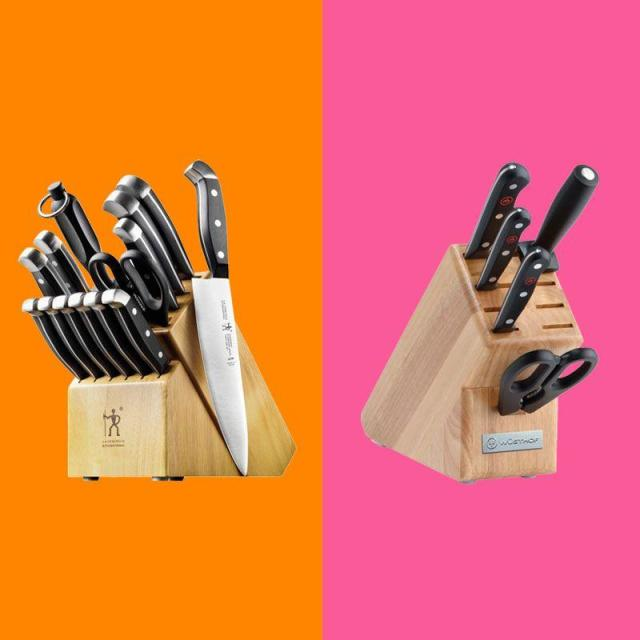weapon: (166, 154, 262, 478)
